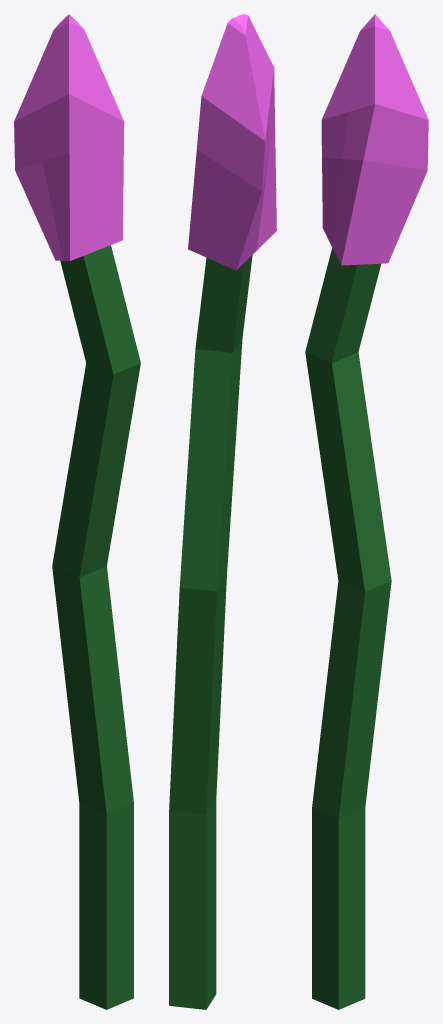
Rendered from Flower_1.fbx.
3 views of the same model, side by side, from view 1: azimuth 90°, elevation 25°; view 2: azimuth 210°, elevation 25°; view 3: azimuth 270°, elevation 25° (orthographic). The views are drawn at different scales.
Parts seen in each view (by area): view 1: Flower_1; view 2: Flower_1; view 3: Flower_1.
Boxes of the visible parts, x1,y1,x2,y2 form: Flower_1: [14, 14, 140, 1009]; Flower_1: [169, 14, 276, 1009]; Flower_1: [305, 14, 428, 1009].
Bounding box in the file's own units: 2.87 × 29.42 × 3.4.
